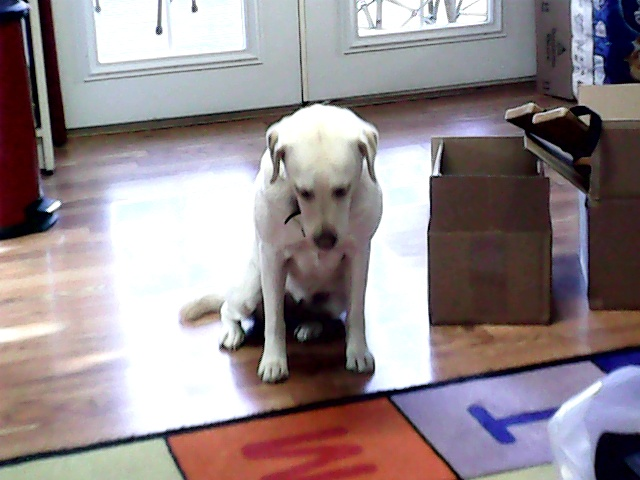dog: (175, 102, 393, 384)
